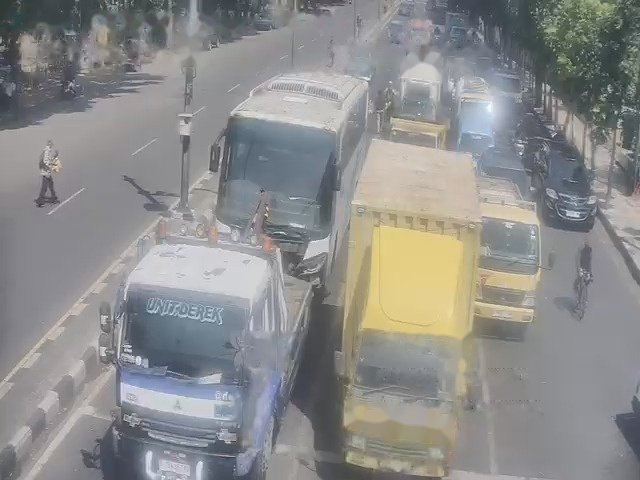Mobil: (532, 150, 597, 228), (457, 101, 493, 159)
Truk: (98, 193, 312, 479), (348, 145, 482, 474), (217, 69, 358, 279), (475, 174, 542, 338)
